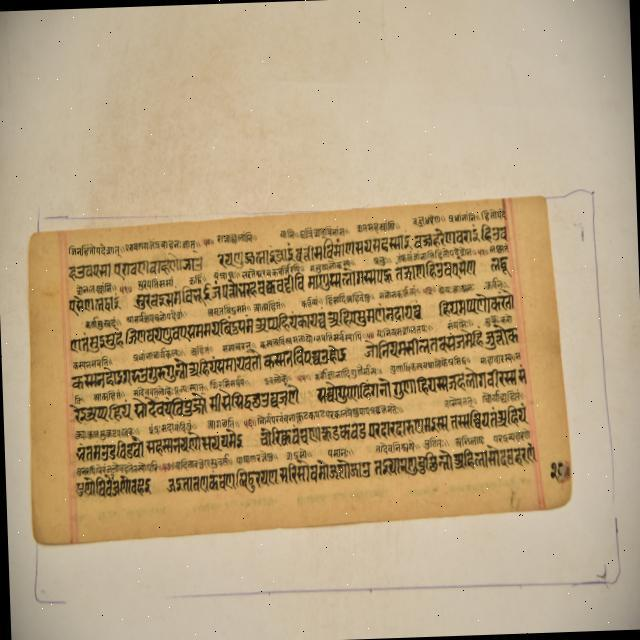text_paragraph: (28, 197, 571, 540)
